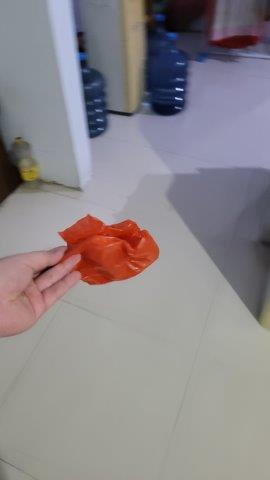plastik: (59, 213, 163, 287)
